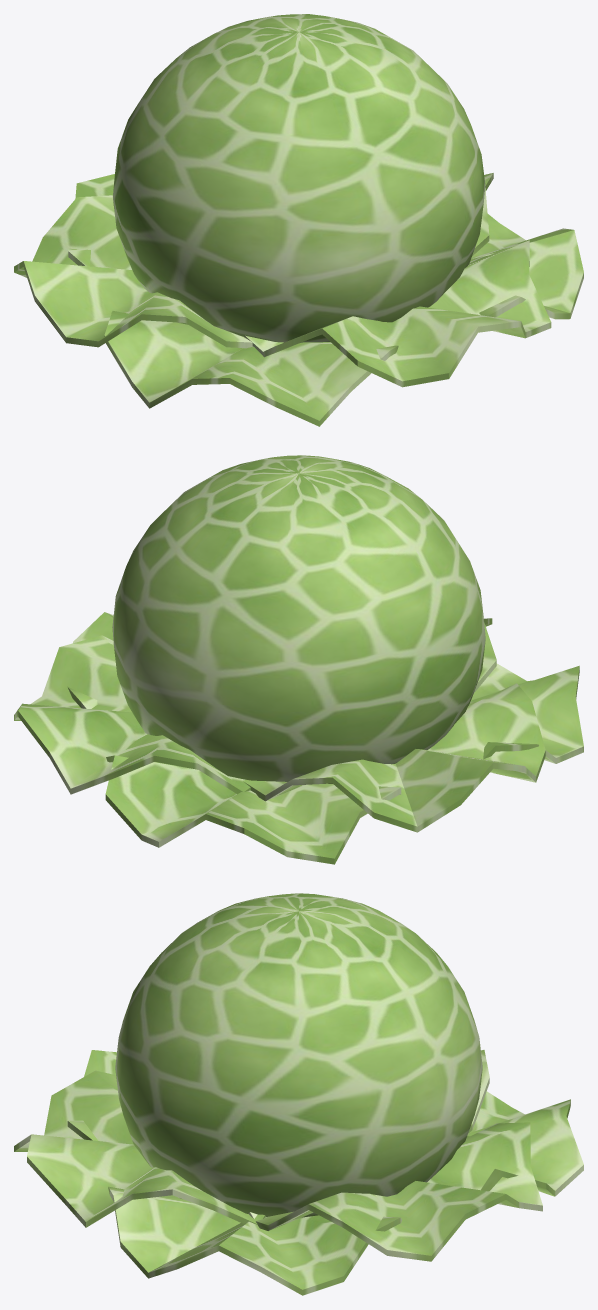
Rendered from veg_cabbage_green.glb.
3 renders of one model, top to bottom at view 1: azimuth 30°, elevation 25°; view 2: azimuth 150°, elevation 25°; view 3: azimuth 270°, elevation 25°, orthographic.
Parts seen in each view (by area): view 1: veg_cabbage_green; view 2: veg_cabbage_green; view 3: veg_cabbage_green.
Part boxes in pixels (x1=…): veg_cabbage_green: x1=14, y1=14, x2=583, y2=426; veg_cabbage_green: x1=14, y1=455, x2=583, y2=864; veg_cabbage_green: x1=14, y1=893, x2=583, y2=1295.
Bounding box in the file's own units: 0.2571 × 0.1619 × 0.2637.
Materials: 2 (1 with a texture image).
